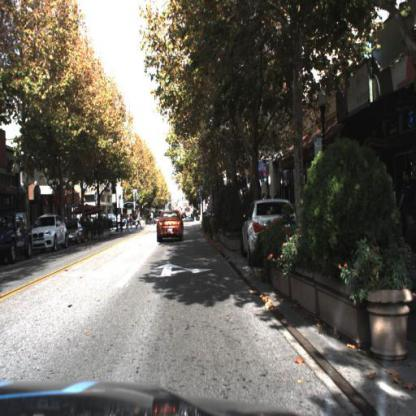car: (240, 197, 300, 272), (239, 195, 298, 265), (1, 206, 38, 266), (1, 211, 35, 265), (33, 211, 68, 254), (156, 209, 186, 245), (69, 219, 85, 247)
pedestrian: (136, 210, 143, 233)
